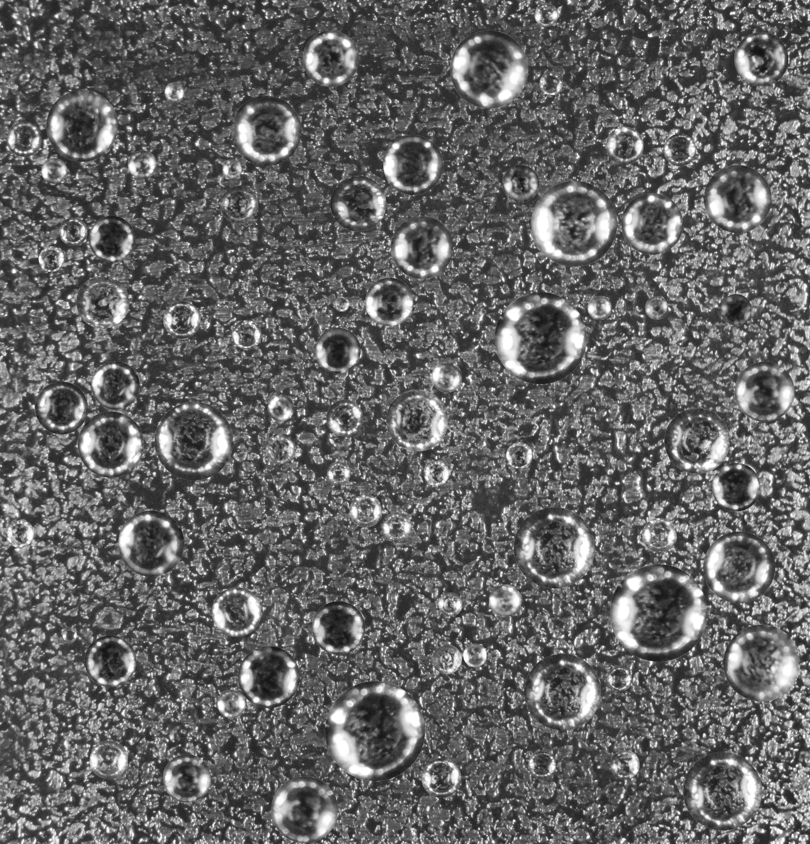Bubble: (325, 681, 424, 781), (610, 564, 707, 661), (494, 292, 586, 384), (531, 180, 617, 266), (513, 507, 594, 588), (154, 401, 233, 480), (683, 752, 761, 830), (450, 30, 528, 108), (723, 624, 800, 701), (524, 653, 600, 730), (703, 531, 775, 603), (46, 90, 117, 161), (231, 95, 301, 165), (703, 165, 771, 232), (271, 776, 337, 843), (118, 510, 184, 576), (77, 411, 143, 477), (664, 408, 730, 473), (390, 216, 453, 278), (386, 389, 448, 451), (621, 193, 683, 254), (238, 646, 299, 707), (734, 361, 794, 421), (383, 135, 443, 194), (302, 30, 358, 86), (330, 175, 386, 231), (734, 32, 788, 86), (311, 601, 365, 654), (76, 275, 128, 328), (35, 381, 87, 434), (84, 635, 136, 687), (211, 587, 261, 636), (712, 463, 760, 511), (365, 277, 413, 325), (91, 361, 139, 409), (162, 754, 210, 802), (88, 215, 135, 262), (315, 327, 360, 373), (421, 758, 461, 797), (89, 740, 127, 779), (220, 185, 258, 223), (606, 126, 643, 164), (163, 301, 200, 338), (502, 165, 539, 201), (326, 399, 362, 436), (642, 517, 677, 552), (6, 121, 41, 156), (663, 133, 696, 166), (349, 494, 382, 527), (489, 584, 521, 617), (720, 294, 751, 325), (431, 361, 462, 392), (265, 433, 295, 464), (381, 512, 411, 542), (432, 644, 461, 674), (127, 150, 156, 179), (610, 750, 639, 779), (232, 320, 261, 349), (217, 689, 245, 718), (5, 519, 33, 547), (59, 217, 87, 245), (528, 751, 556, 779), (267, 394, 294, 421), (506, 442, 532, 468), (423, 460, 449, 485), (38, 246, 64, 271), (607, 666, 632, 691), (41, 158, 66, 183), (587, 295, 611, 319), (438, 592, 462, 616), (463, 643, 486, 667), (327, 461, 350, 485), (534, 3, 558, 26), (539, 71, 562, 95), (645, 296, 668, 319), (164, 82, 184, 102), (222, 159, 241, 178), (61, 627, 76, 643), (334, 296, 349, 311), (744, 512, 754, 522)
